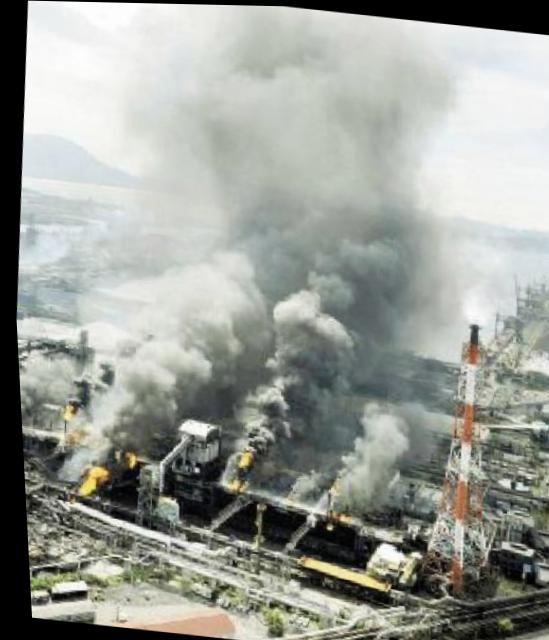fire: (73, 463, 103, 494)
